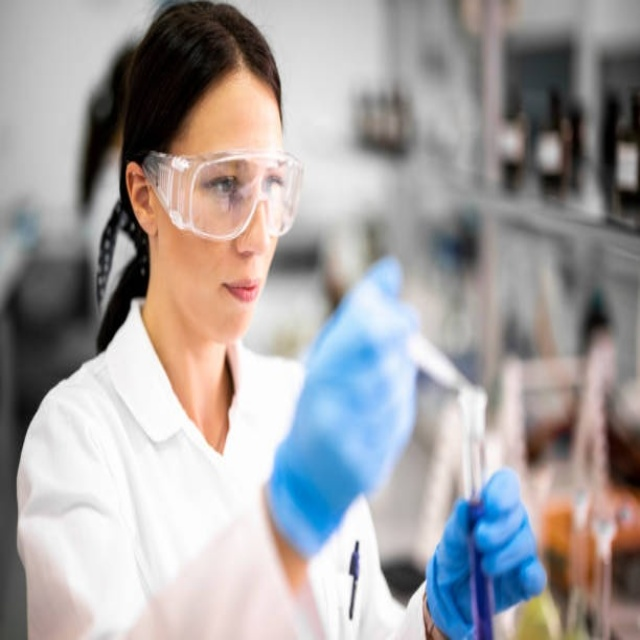Gafas: (139, 149, 304, 241)
Guantes: (266, 255, 424, 558), (424, 463, 546, 639)
Sin_mascara: (204, 260, 268, 334)
